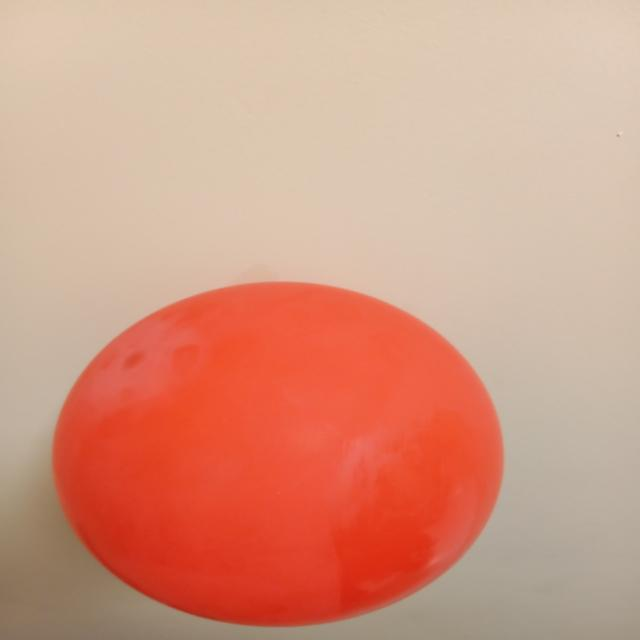balloon: (52, 282, 503, 626)
